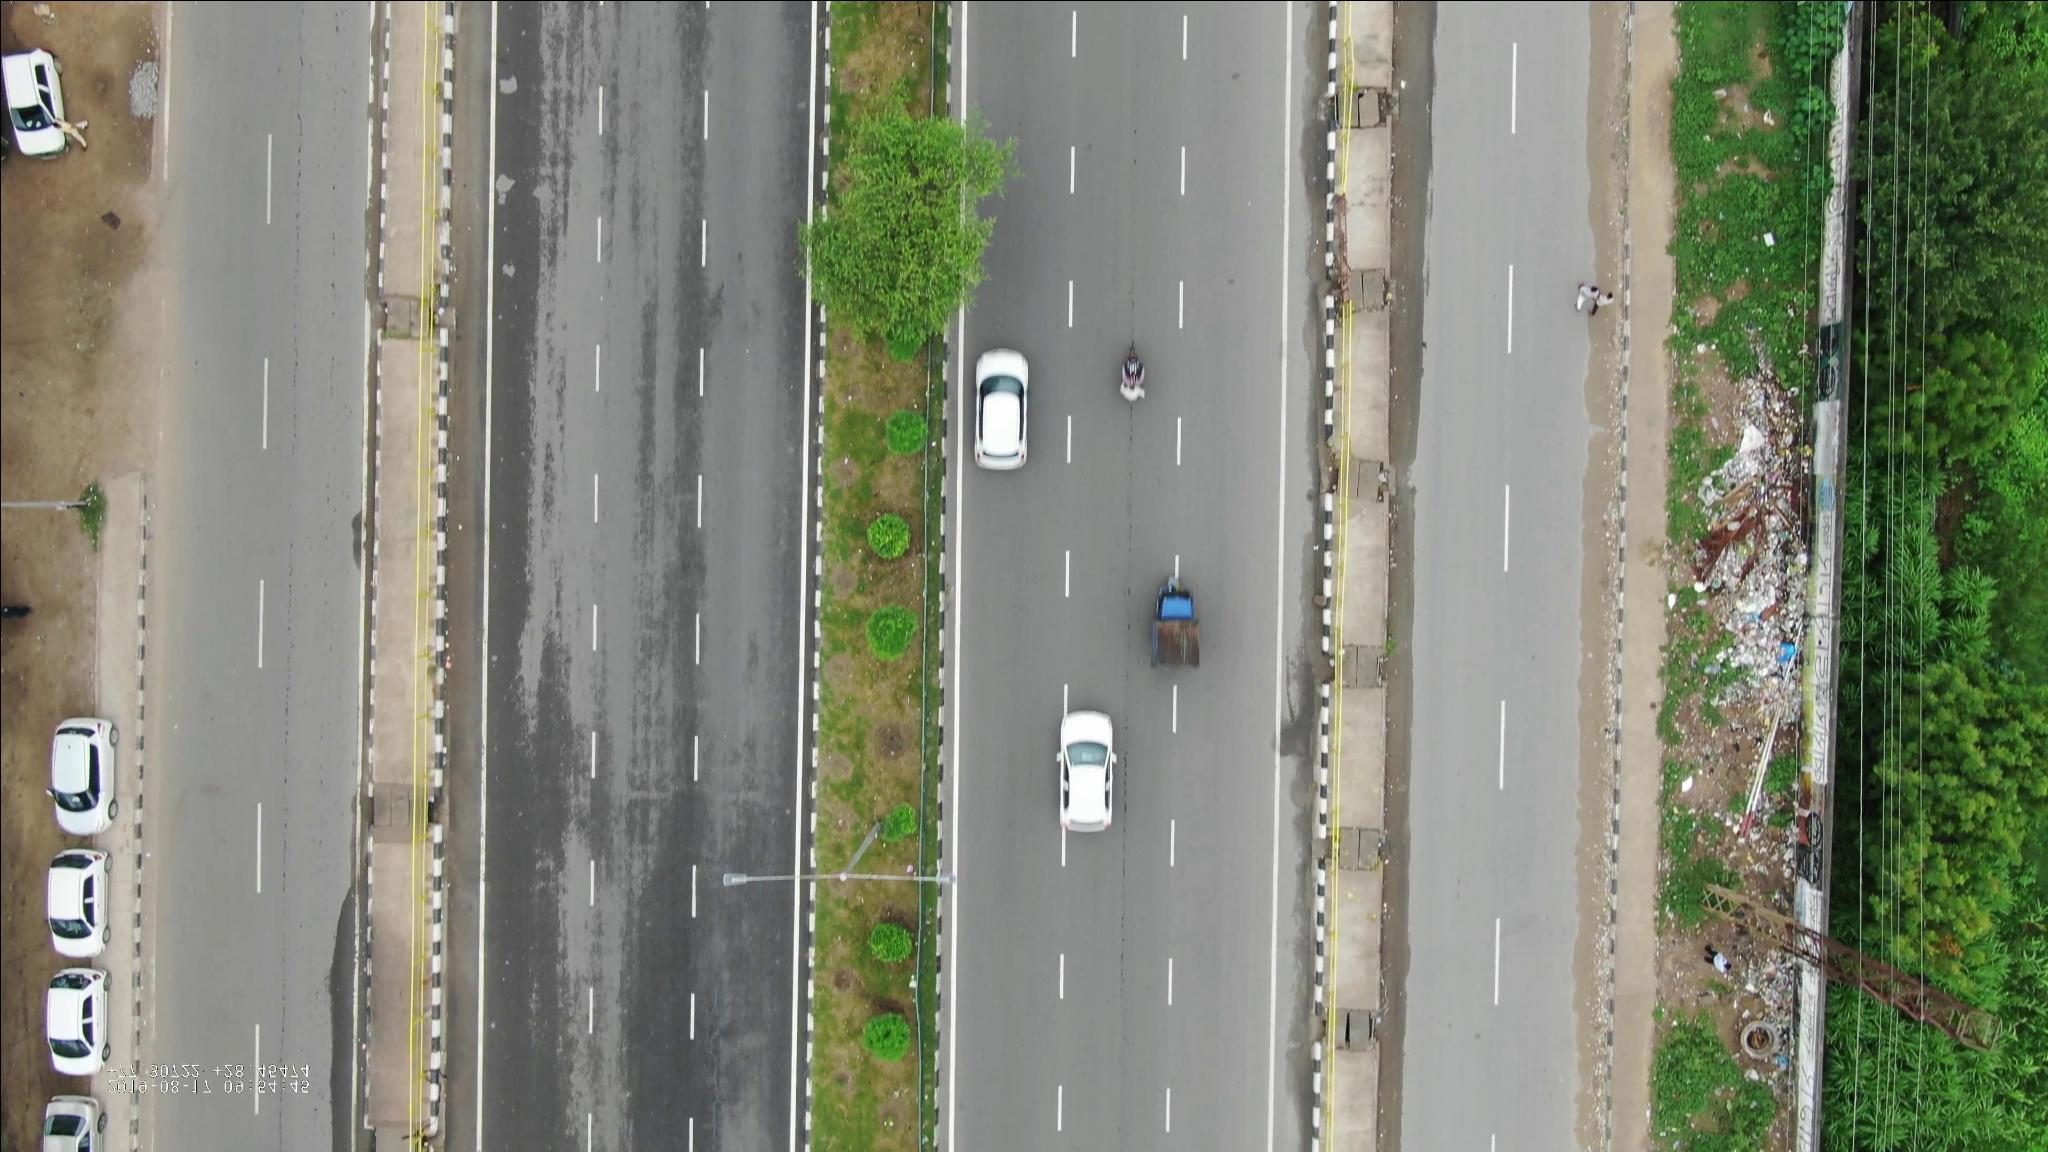Muddy_road: (1571, 340, 1627, 1142), (1585, 8, 1630, 259)
Road_side_garbage: (1671, 390, 1815, 729)
